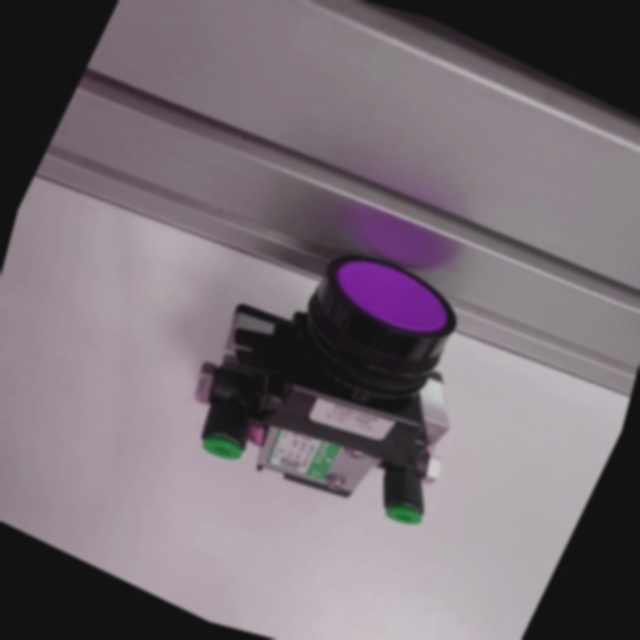push button: (155, 194, 532, 561)
